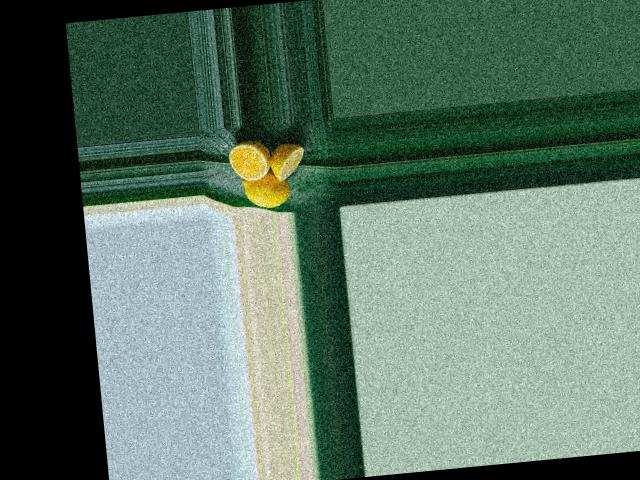lemon: (234, 167, 291, 210)
